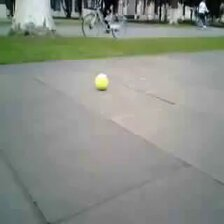tennis: (95, 73, 110, 91)
